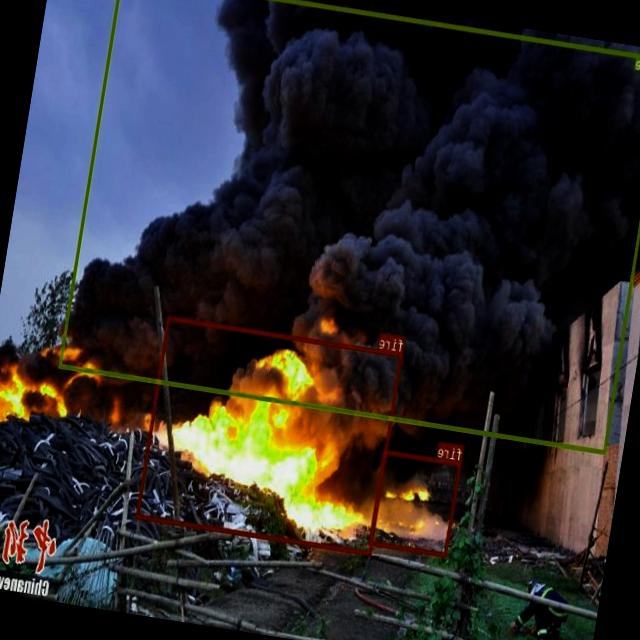fire: (137, 316, 404, 556), (370, 449, 462, 556)
smoke: (59, 0, 640, 453)
